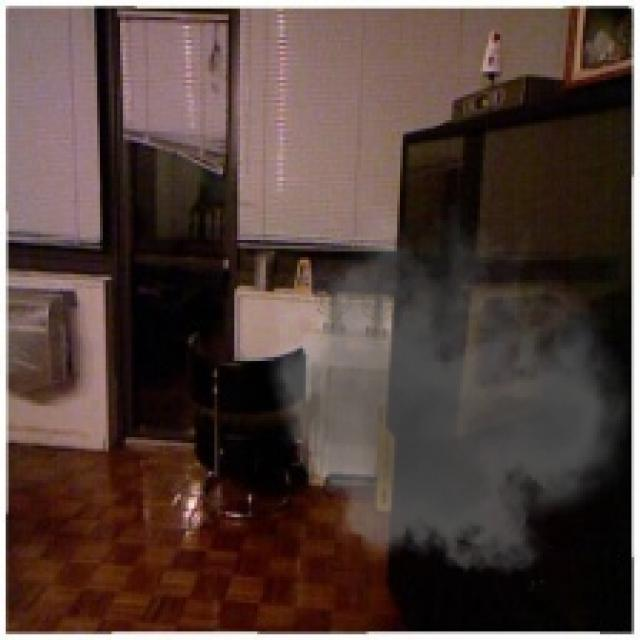Smoke: (254, 203, 632, 592)
